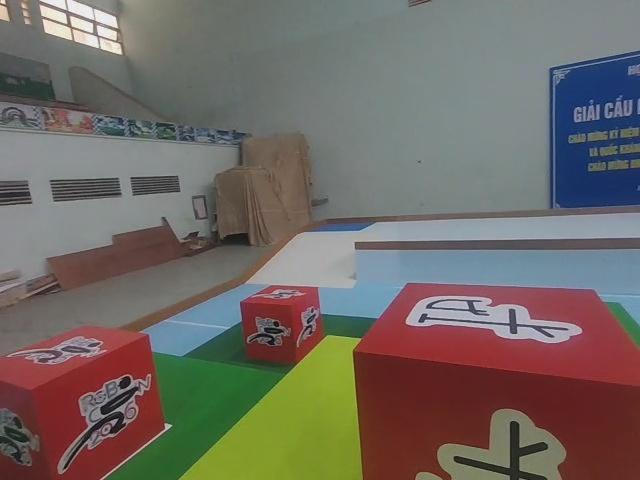R1: (0, 320, 169, 480), (238, 281, 326, 366)
R2 Real: (349, 277, 640, 480)
